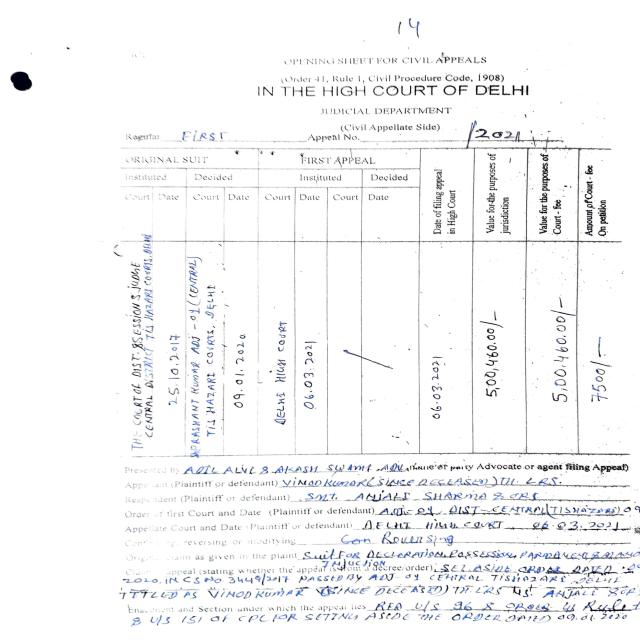page-number: (270, 2, 631, 52)
